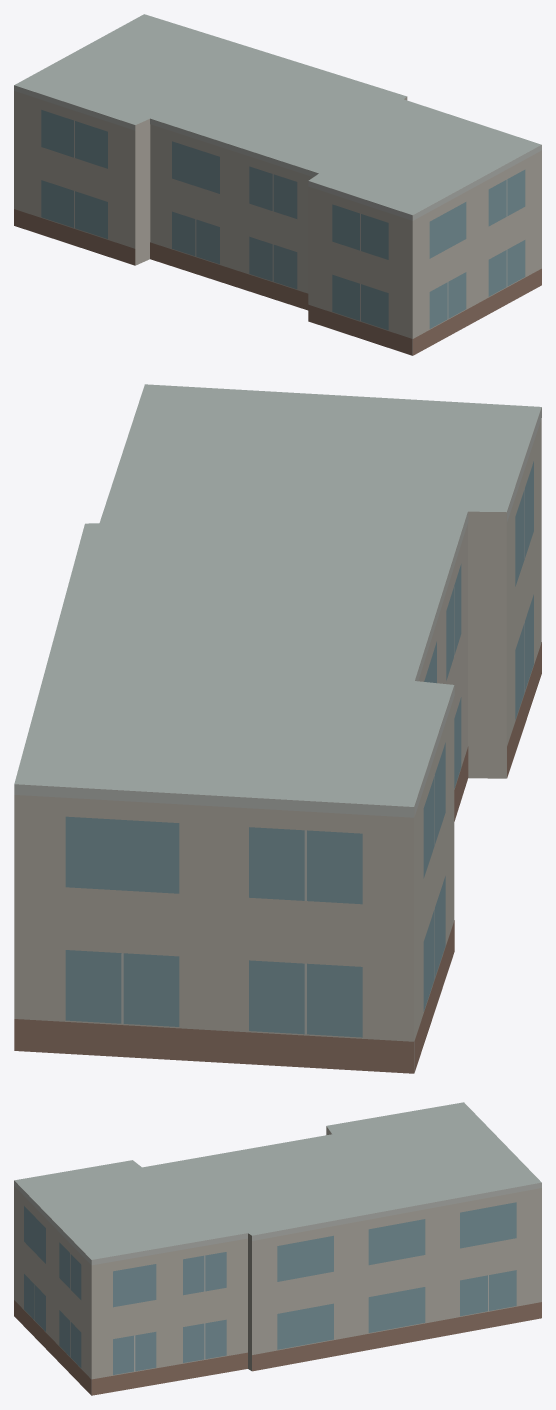
Rendered from survey-upis-32522426.glb.
3 views of the same model, one above another, from view 1: azimuth 30°, elevation 25°; view 2: azimuth 150°, elevation 25°; view 3: azimuth 270°, elevation 25° (orthographic). The views are drawn at different scales.
Visible parts, largest first — view 1: survey-upis-32522426.tmp; view 2: survey-upis-32522426.tmp; view 3: survey-upis-32522426.tmp.
Part boxes in pixels (<box>): survey-upis-32522426.tmp: <box>14,14,541,355</box>; survey-upis-32522426.tmp: <box>14,384,541,1073</box>; survey-upis-32522426.tmp: <box>14,1102,541,1395</box>.
Size of the model in its own units: 15.22 by 6.1 by 21.51.
